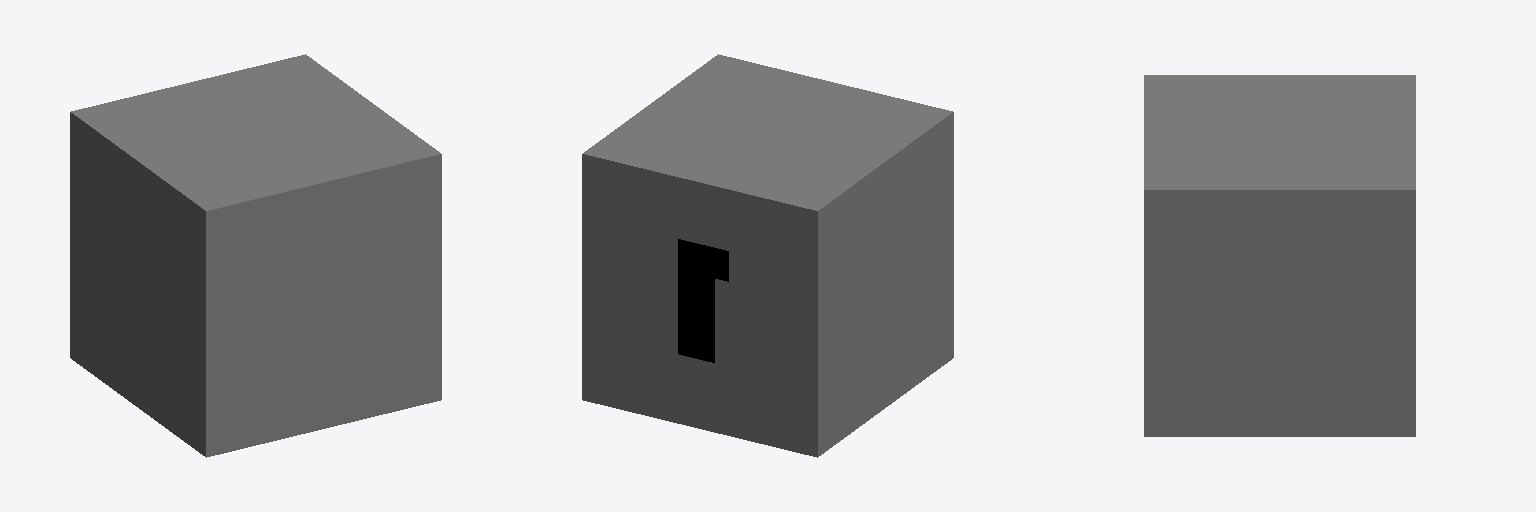
3 renders of one model, left to right at view 1: azimuth 30°, elevation 25°; view 2: azimuth 150°, elevation 25°; view 3: azimuth 270°, elevation 25°, orthographic.
Visible parts, largest first — view 1: Cube; view 2: Cube; view 3: Cube.
Boxes of the visible parts, <box> form: Cube: <box>70,54,441,457</box>; Cube: <box>582,54,953,457</box>; Cube: <box>1144,75,1415,436</box>.
Bounding box in the file's own units: 2 × 2 × 2.
1 materials, 1 textured.